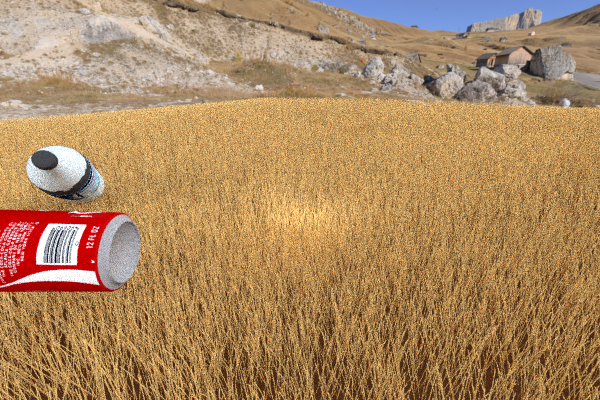Plastic Bottle: (0, 209, 140, 292), (26, 145, 104, 203)
